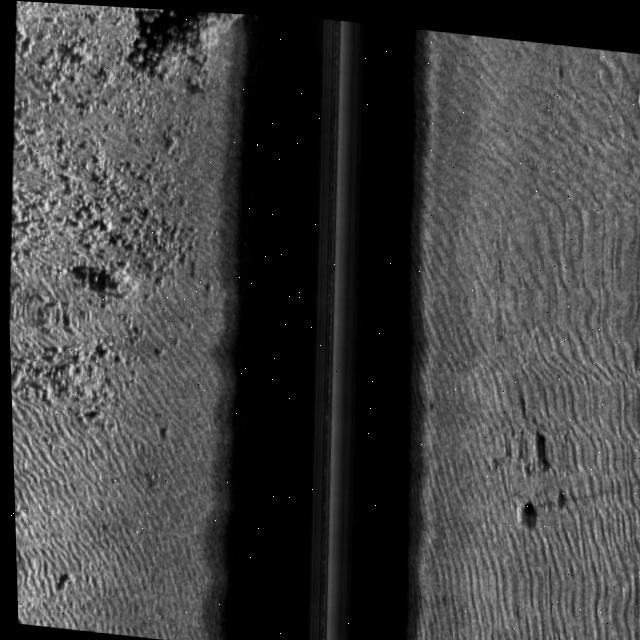artificial reef: (133, 6, 293, 94)
